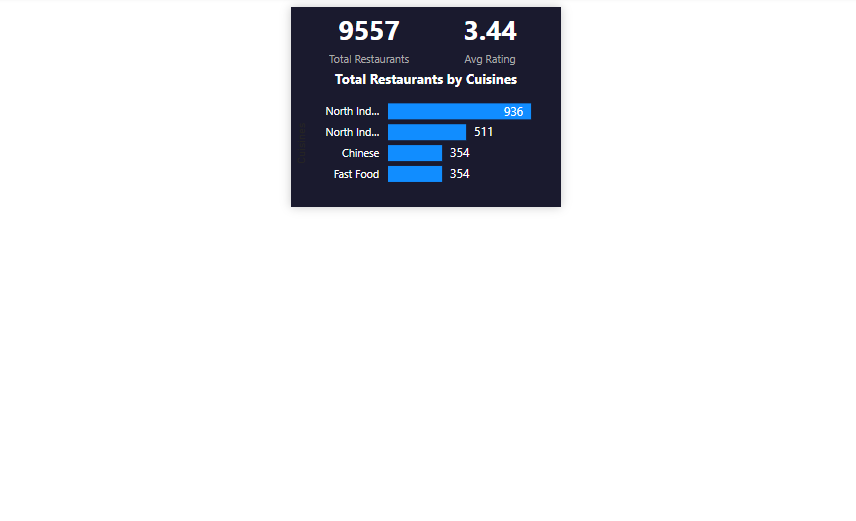

The page's visual inventory and layout, read from the dashboard file:
{"tool":"powerbi","page":{"name":"Tooltip","canvas":[270,200],"ordinal":5},"visuals":[{"type":"card","fields":{"Values":["_Measures.Total Restaurants"]},"box":[33,0,90,63],"z":0},{"type":"card","fields":{"Values":["_Measures.Avg Rating"]},"box":[154,0,90,63],"z":1000},{"type":"clusteredBarChart","fields":{"Category":["Restaurants.Cuisines"],"Y":["_Measures.Total Restaurants"]},"box":[0,63,270,126],"z":2000}]}

Visuals, with their boxes on the page's 270x200 design canvas (x1, y1, x2, y2). These are canvas units, not pixel positions in the 856x521 screenshot, which may show the page scaled, cropped or inside an application window:
card - _Measures.Total Restaurants: rect(33, 0, 123, 63)
card - _Measures.Avg Rating: rect(154, 0, 244, 63)
clusteredBarChart - Restaurants.Cuisines x _Measures.Total Restaurants: rect(0, 63, 270, 189)
